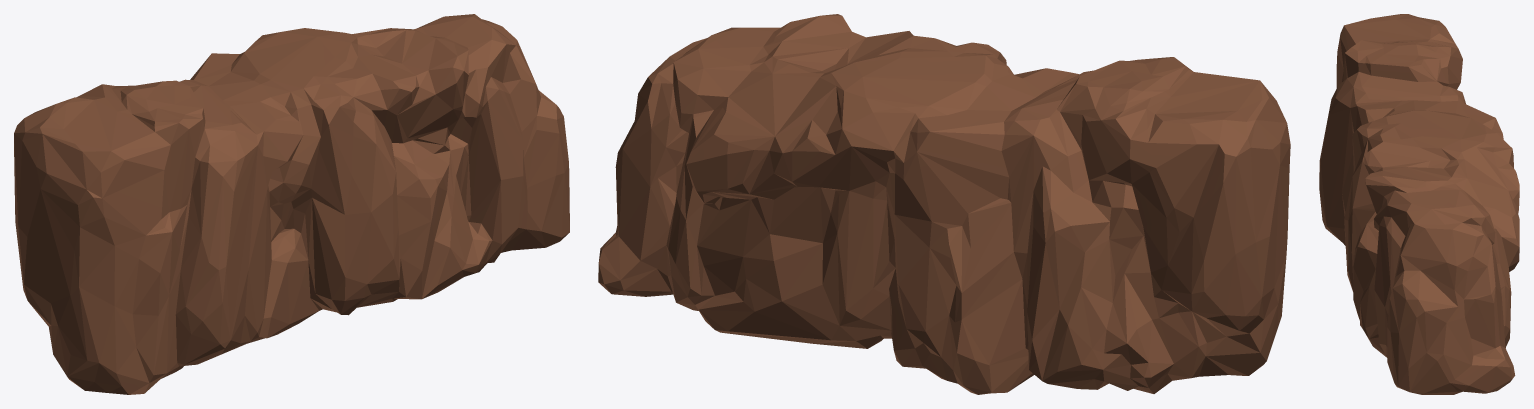
The model's file is cliff_a.glb.
3 views of the same model, side by side, from view 1: azimuth 30°, elevation 25°; view 2: azimuth 150°, elevation 25°; view 3: azimuth 270°, elevation 25° (orthographic). The views are drawn at different scales.
Visible parts, largest first — view 1: SM_Env_Rock_Cliff_03; view 2: SM_Env_Rock_Cliff_03; view 3: SM_Env_Rock_Cliff_03.
Boxes of the visible parts, left/top/right/bottom form: SM_Env_Rock_Cliff_03: left=14, top=14, right=569, bottom=394; SM_Env_Rock_Cliff_03: left=598, top=14, right=1290, bottom=394; SM_Env_Rock_Cliff_03: left=1319, top=14, right=1519, bottom=394.
Bounding box in the file's own units: 22.65 × 10.26 × 9.28.
Materials: 1 (1 with a texture image).
